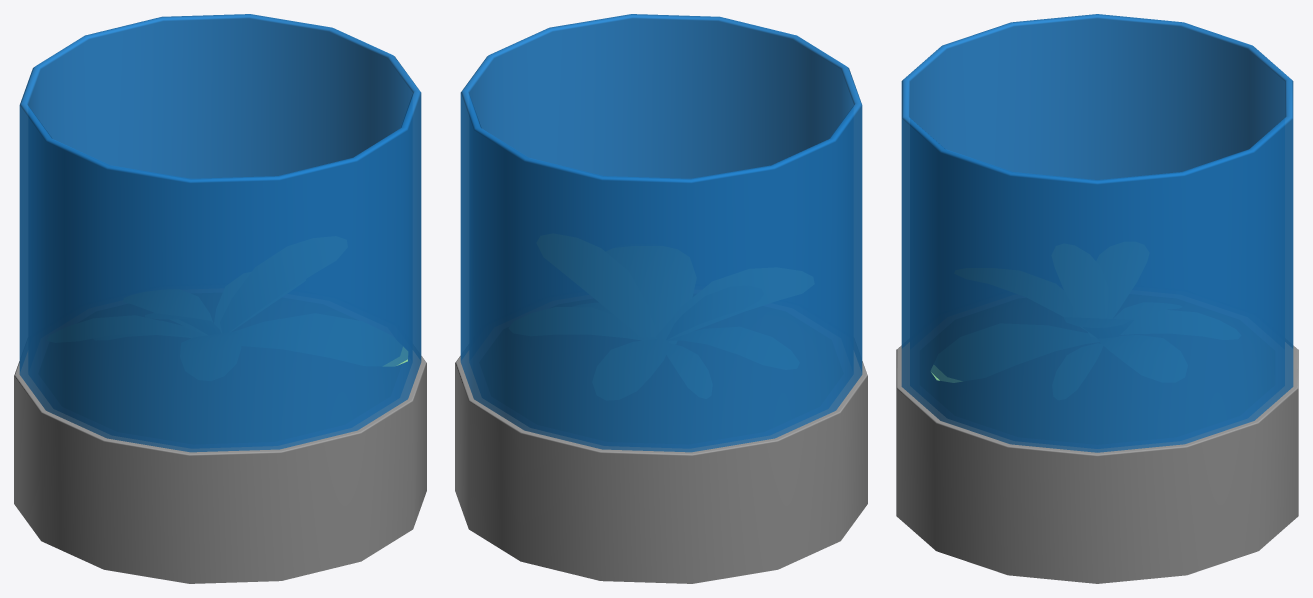
File: Vase.fbx
The picture shows the model from 3 angles, left to right: view 1: azimuth 30°, elevation 25°; view 2: azimuth 150°, elevation 25°; view 3: azimuth 270°, elevation 25°; orthographic projection.
Parts seen in each view (by area): view 1: Vase; view 2: Vase; view 3: Vase.
Part boxes in pixels (left/top/right/bottom): Vase: left=14, top=14, right=426, bottom=583; Vase: left=455, top=14, right=867, bottom=583; Vase: left=896, top=14, right=1298, bottom=583.
Bounding box in the file's own units: 323 × 344 × 315.
